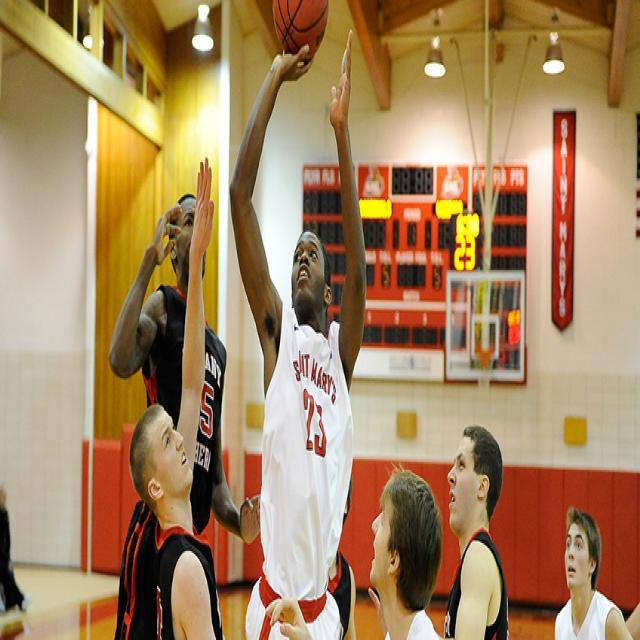body: (225, 26, 368, 638), (106, 190, 261, 640), (128, 152, 224, 640), (264, 459, 446, 640), (440, 422, 510, 640), (552, 505, 634, 640), (326, 470, 358, 640), (0, 486, 34, 618), (619, 586, 639, 637)
